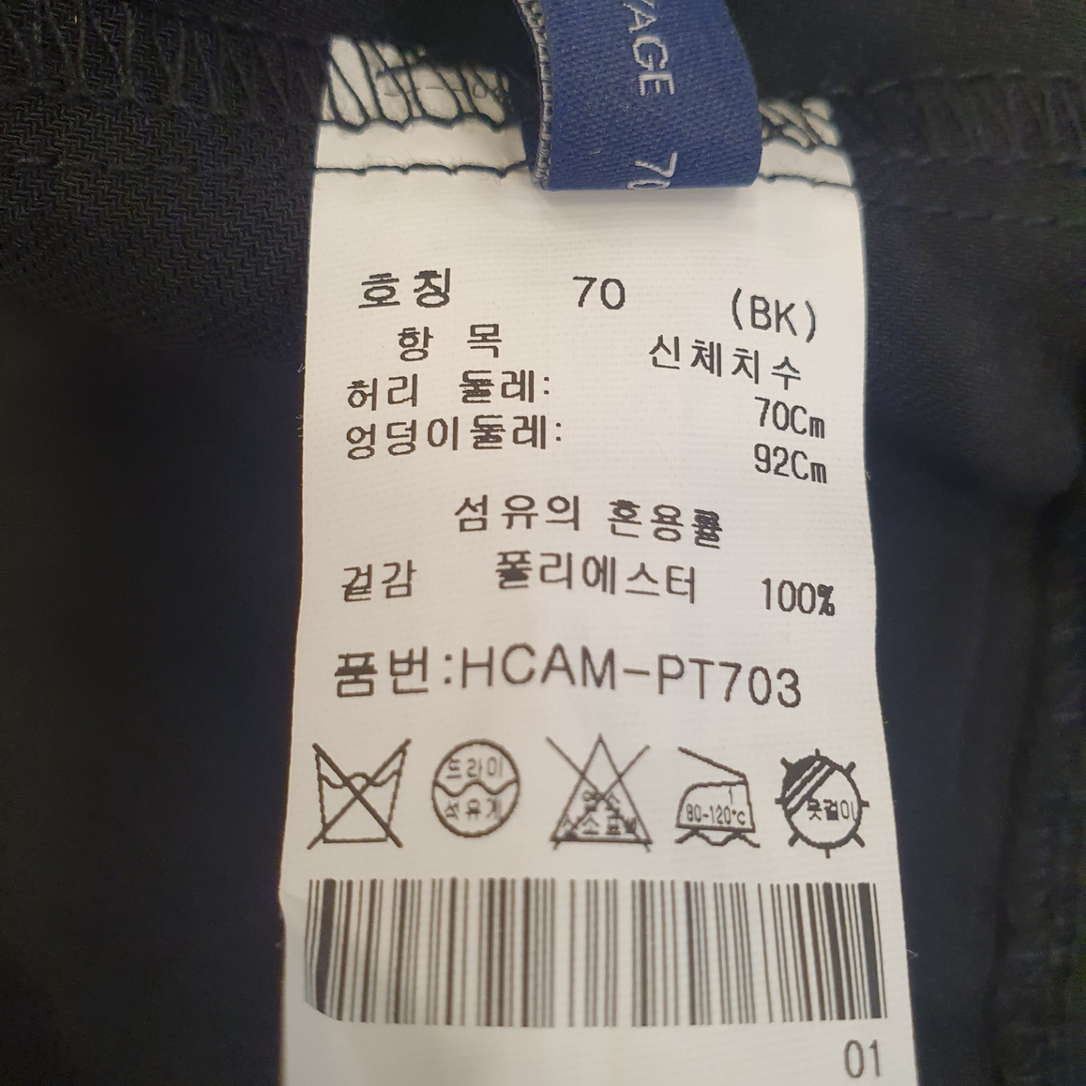KR_dry_clean_petroleum: (427, 737, 526, 843)
KR_hang_dry_in_shade: (774, 747, 875, 857)
KR_iron_low_temp_with_cloth: (664, 742, 766, 855)
KR_no_bleach: (542, 733, 651, 855)
KR_no_wash: (305, 739, 414, 857)
